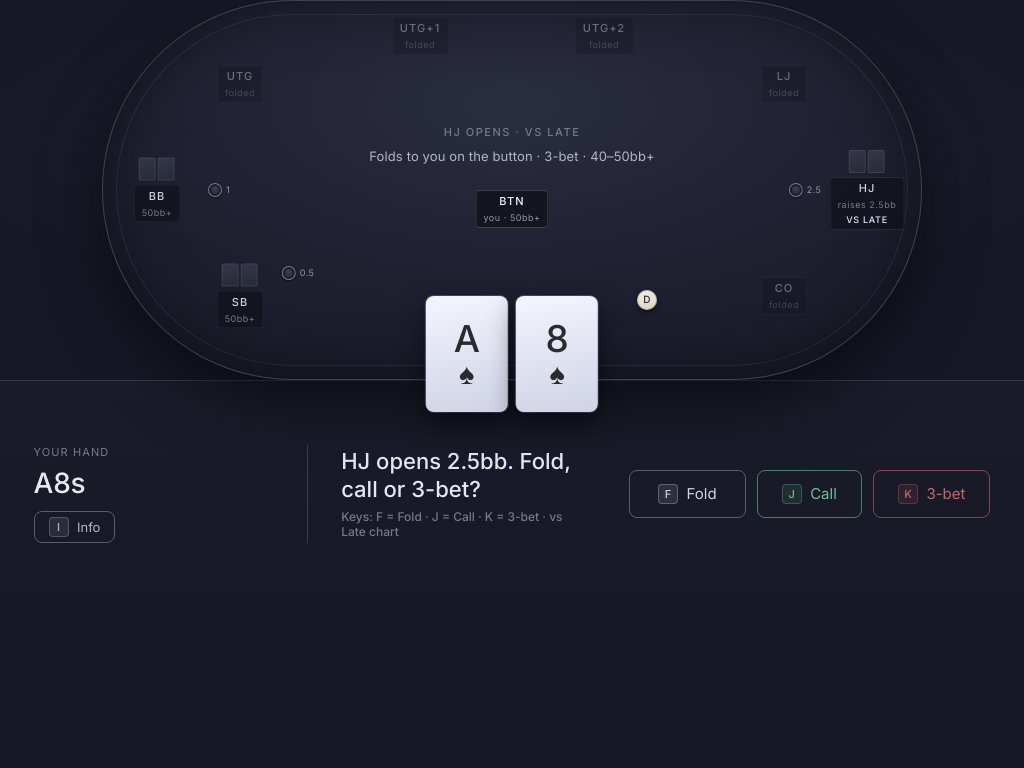
Test: FacingTrainer › desktop › 3-bet button commits and records
Click the button "K 3-bet": (932, 494) [873,470,990,518]
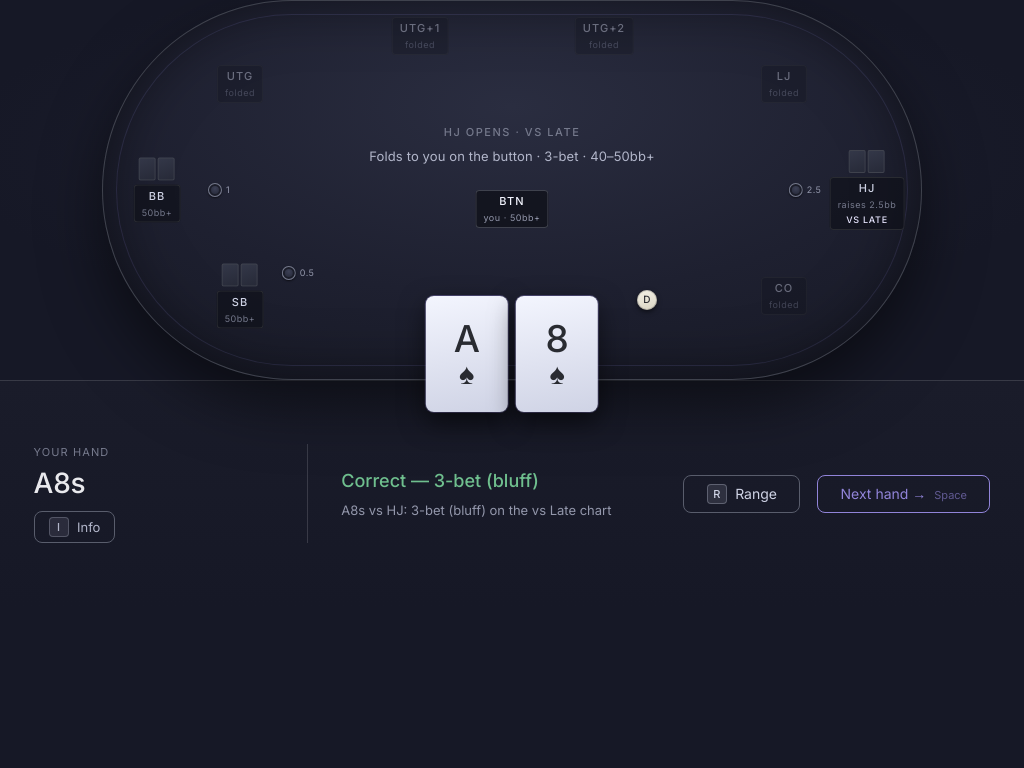
Expected: the text with test id "verdict" reads "Correct — 3-bet (bluff)", [341,470,539,491]
Expected: the button "F Fold" is gone
